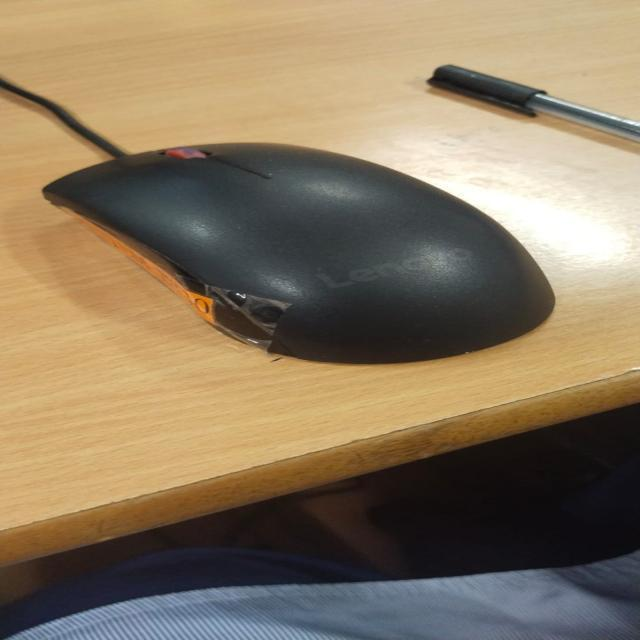Mouse: (103, 144, 629, 373), (435, 42, 640, 160)
